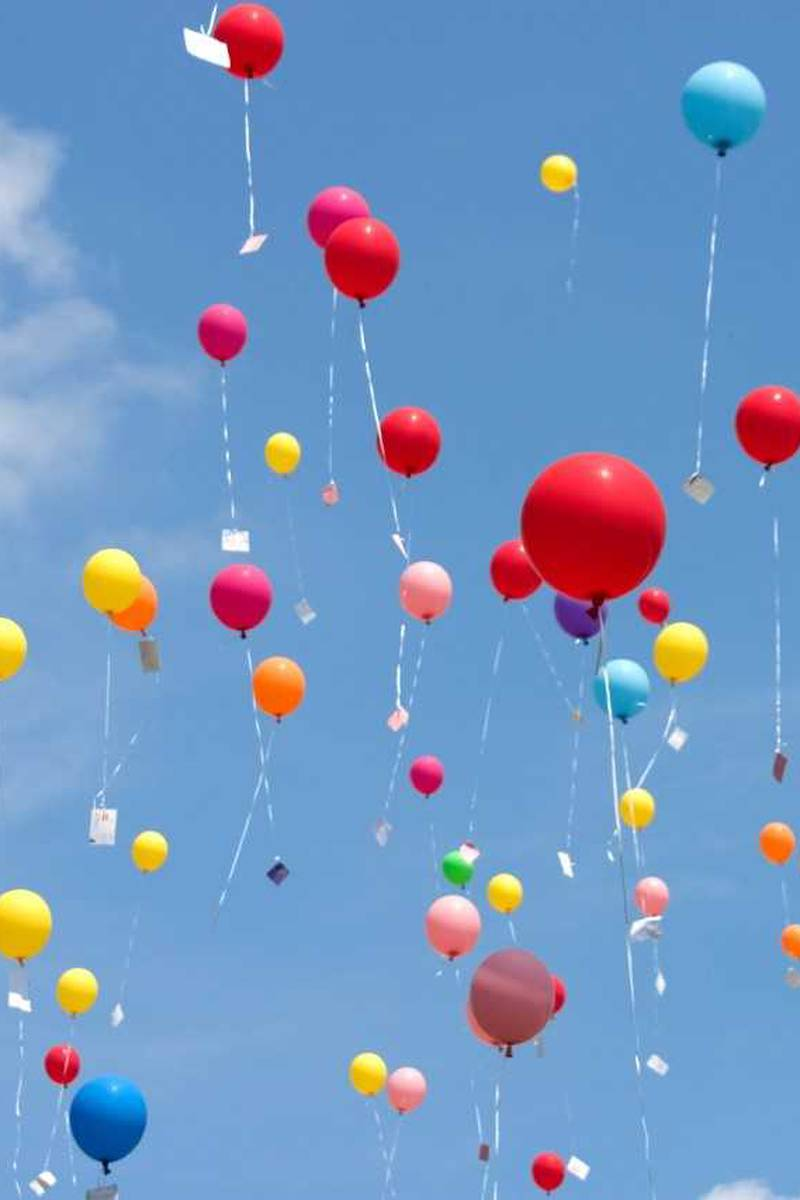Balloon: (519, 451, 667, 603), (472, 949, 554, 1045), (681, 61, 767, 151), (326, 215, 400, 299), (209, 1, 285, 80), (733, 382, 800, 463), (210, 564, 273, 631), (379, 408, 438, 477), (83, 546, 140, 614), (308, 187, 370, 247), (652, 622, 711, 684), (252, 654, 311, 716), (425, 894, 481, 957), (1, 889, 52, 958), (195, 303, 252, 361), (594, 659, 649, 718), (399, 561, 453, 618), (490, 540, 541, 599), (553, 590, 608, 637), (386, 1067, 427, 1112), (759, 822, 797, 865), (538, 149, 578, 189), (350, 1052, 387, 1095), (485, 873, 524, 913), (131, 830, 168, 872), (264, 432, 301, 474), (633, 876, 670, 917), (619, 788, 655, 828), (410, 755, 445, 796), (638, 588, 671, 622), (442, 852, 473, 886)
